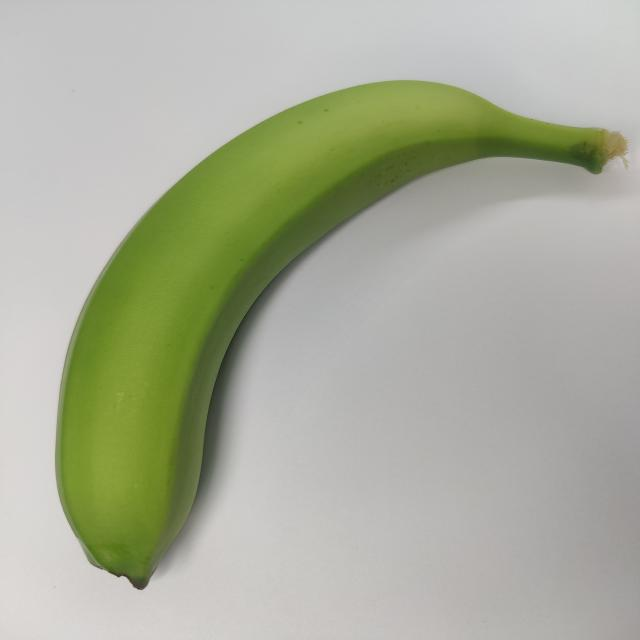raw: (40, 61, 630, 584)
